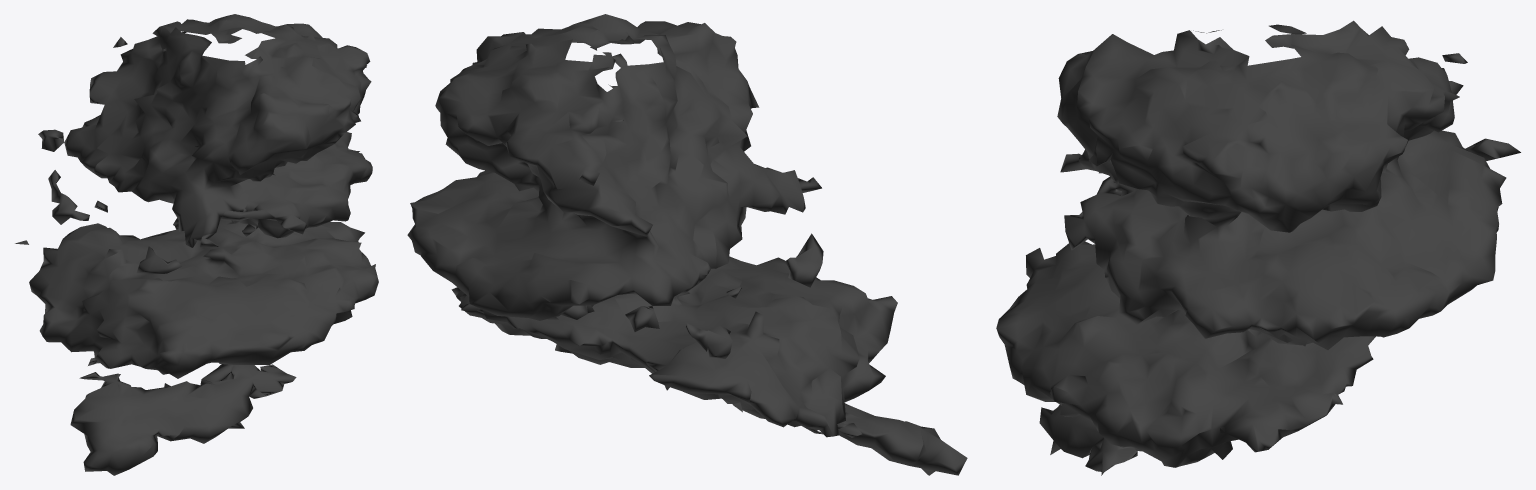
Rendered from strata-0.glb.
The picture shows the model from 3 angles, left to right: view 1: azimuth 30°, elevation 25°; view 2: azimuth 150°, elevation 25°; view 3: azimuth 270°, elevation 25°; orthographic projection. The views are drawn at different scales.
Parts seen in each view (by area): view 1: geometry_0; view 2: geometry_0; view 3: geometry_0.
Part boxes in pixels (x1=…): geometry_0: x1=15, y1=14, x2=378, y2=475; geometry_0: x1=407, y1=14, x2=967, y2=475; geometry_0: x1=996, y1=20, x2=1520, y2=475.
Size of the model in its own units: 1.08 by 1 by 0.9676.
Materials: 1 (1 with a texture image).
